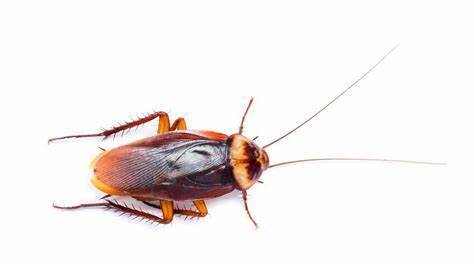cockroach: (70, 107, 277, 227)
